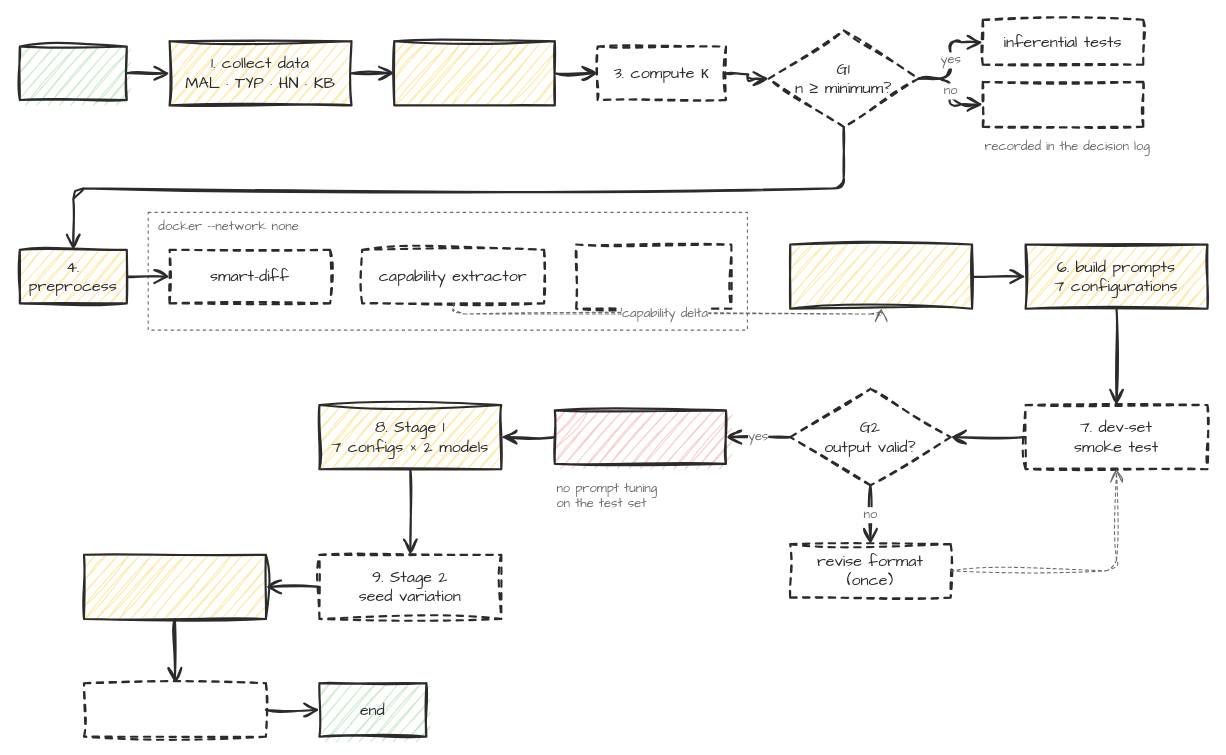
This 1226x755 diagram has some shape labels left out. The centre of each missing label's shape, as x and y in pixels:
"10. metrics + statistical tests" belongs at [174,586].
"11. error analysis" belongs at [174,709].
"2. double labelling (audit UI)" belongs at [474,73].
"5. KB cards + Jaccard retrieval" belongs at [881,276].
"descriptive only" belongs at [1062,103].
"freeze design" belongs at [640,436].
"intent profile (from v(t-1))" belongs at [653,276].
"start" belongs at [72,73].
